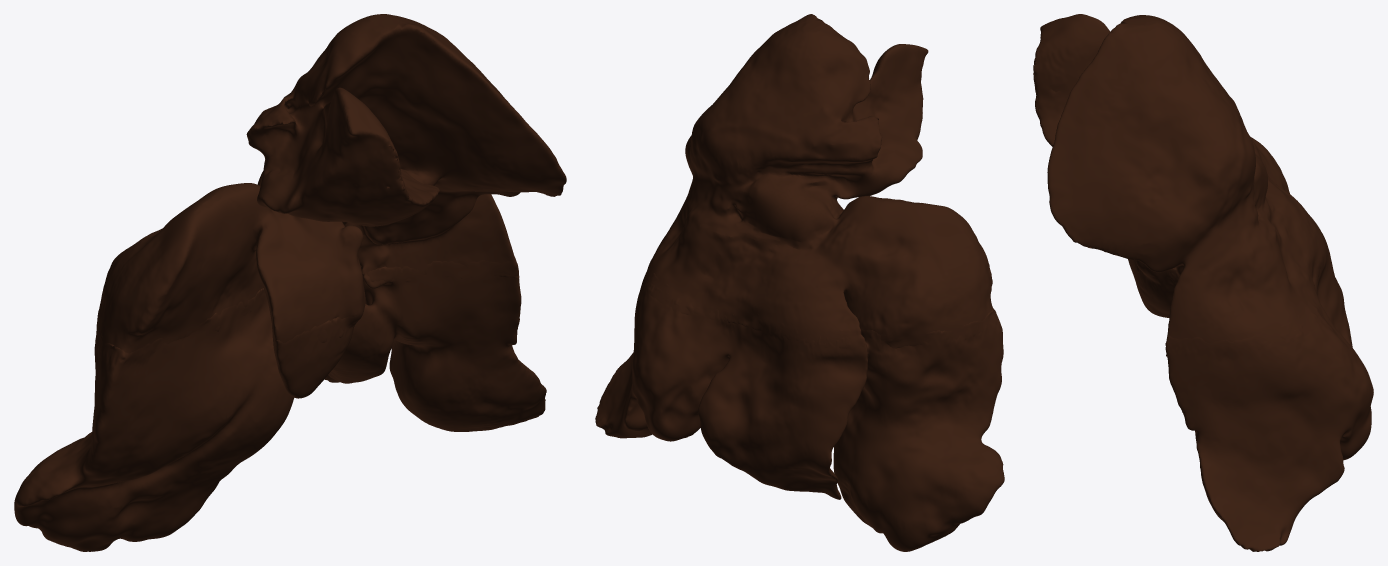
The model's file is dog-liver.glb.
The picture shows the model from 3 angles, left to right: view 1: azimuth 30°, elevation 25°; view 2: azimuth 150°, elevation 25°; view 3: azimuth 270°, elevation 25°; orthographic projection. The views are drawn at different scales.
Visible parts, largest first — view 1: Object_10; view 2: Object_10; view 3: Object_10.
Part boxes in pixels (<box>): Object_10: <box>14,14,566,551</box>; Object_10: <box>595,14,1004,551</box>; Object_10: <box>1033,14,1373,551</box>.
Size of the model in its own units: 231 by 234 by 148.
